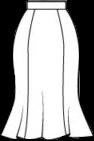Hemline: (0, 133, 93, 140)
Waistline: (27, 7, 66, 10), (26, 0, 64, 2)
